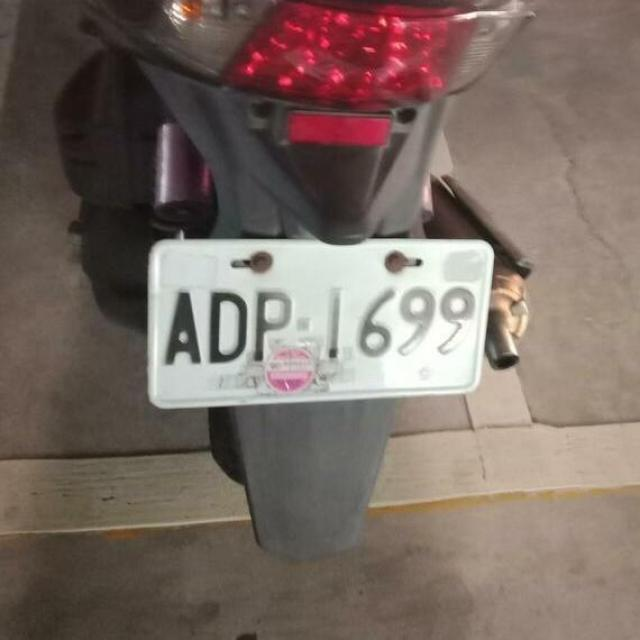W: (138, 229, 496, 420)
